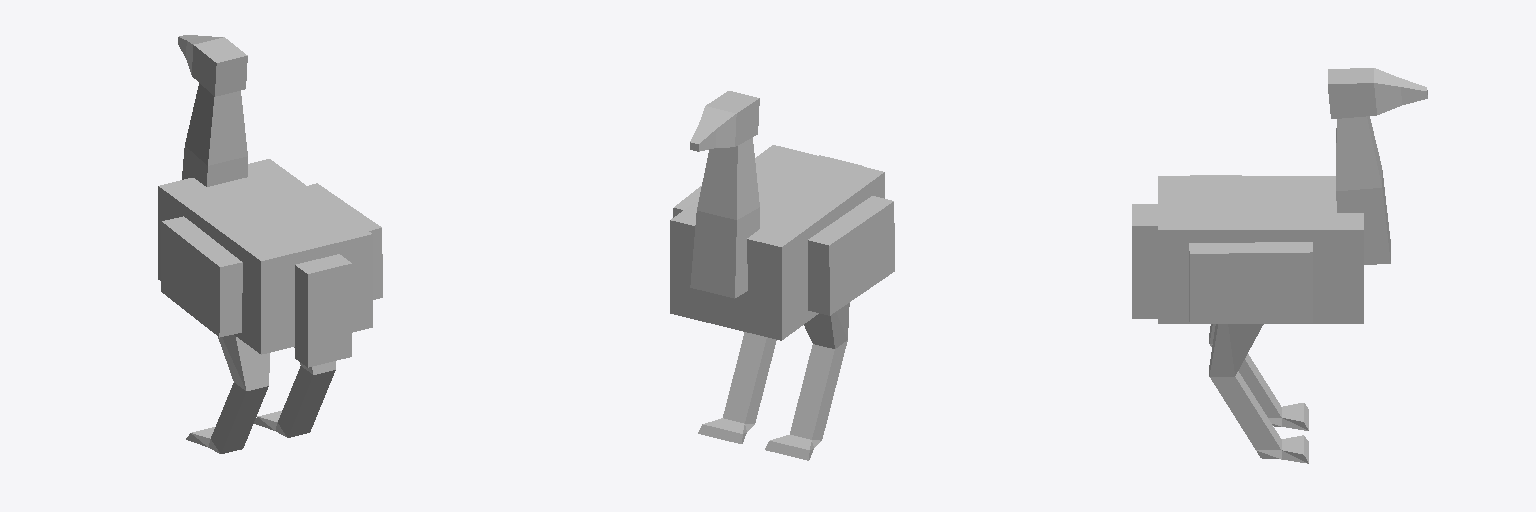
File: Ostrich_000064.obj
3 renders of one model, left to right at view 1: azimuth 30°, elevation 25°; view 2: azimuth 150°, elevation 25°; view 3: azimuth 270°, elevation 25°, orthographic.
Parts seen in each view (by area): view 1: Cube_Cube.001; view 2: Cube_Cube.001; view 3: Cube_Cube.001.
Part boxes in pixels (left/top/right/bottom): Cube_Cube.001: left=158, top=35, right=382, bottom=453; Cube_Cube.001: left=670, top=91, right=894, bottom=460; Cube_Cube.001: left=1132, top=68, right=1427, bottom=463.
Bounding box in the file's own units: 0.7323 × 1.55 × 1.15.